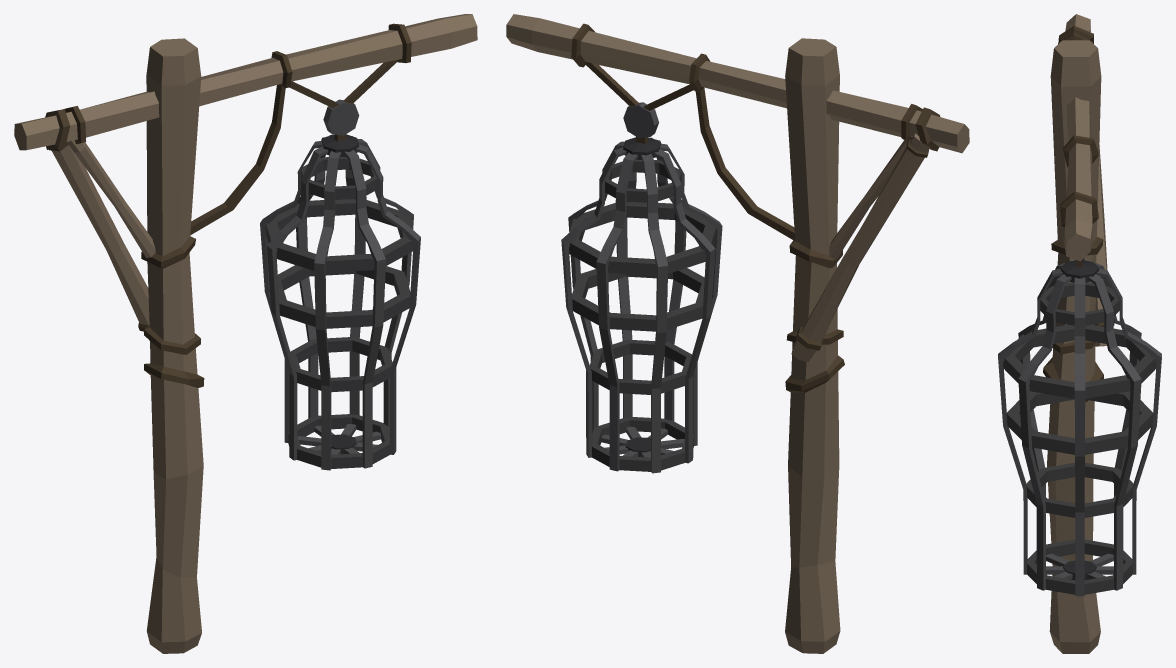
The model's file is SM_Prop_Cage_02.glb.
3 views of the same model, side by side, from view 1: azimuth 30°, elevation 25°; view 2: azimuth 150°, elevation 25°; view 3: azimuth 270°, elevation 25° (orthographic).
Visible parts, largest first — view 1: SM_Prop_Cage_02; view 2: SM_Prop_Cage_02; view 3: SM_Prop_Cage_02.
Boxes of the visible parts, <box> form: SM_Prop_Cage_02: <box>14,14,477,653</box>; SM_Prop_Cage_02: <box>506,14,969,653</box>; SM_Prop_Cage_02: <box>998,14,1161,653</box>.
Bounding box in the file's own units: 0.0294 × 0.0372 × 0.00927.
